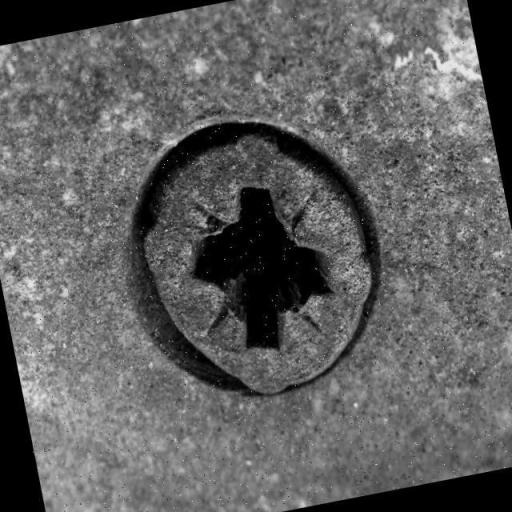Pozidriv: (127, 127, 376, 393)
